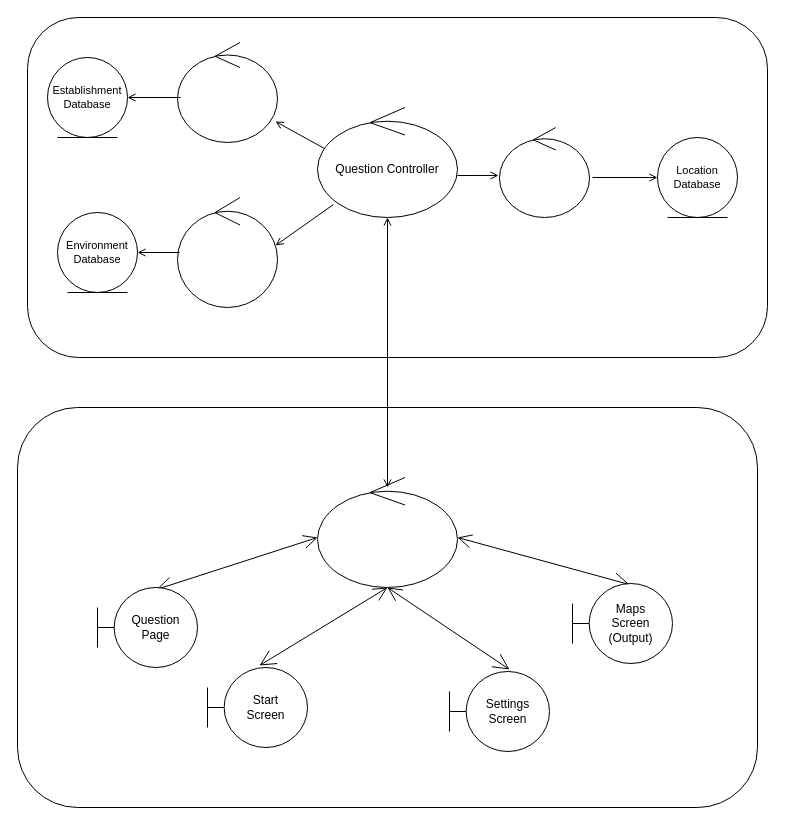
This 785x825 diagram has some shape labels left out. The centre of each missing label's shape, as x and y in pixels:
"Environment Expert" belongs at [227,252].
"Establishment Expert" belongs at [227,92].
"GUI Controller" belongs at [387,532].
"Location Expert" belongs at [544,172].
